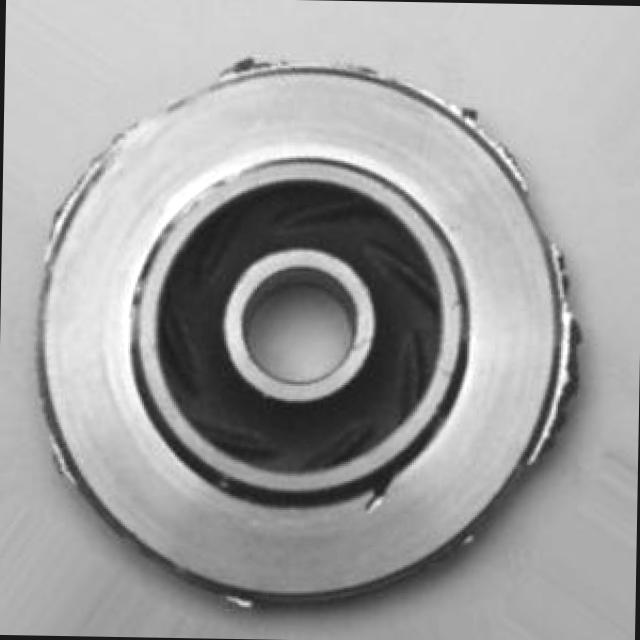Defect: (442, 94, 501, 139)
